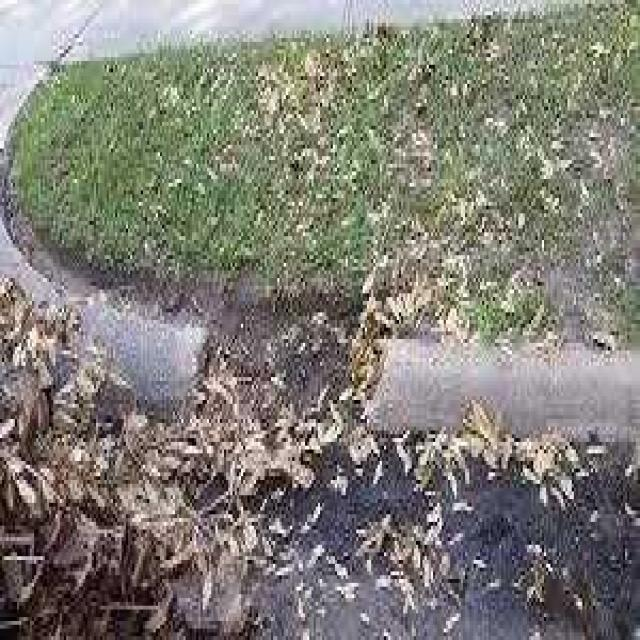curb: (7, 289, 368, 416), (332, 348, 634, 441), (1, 89, 84, 289)
